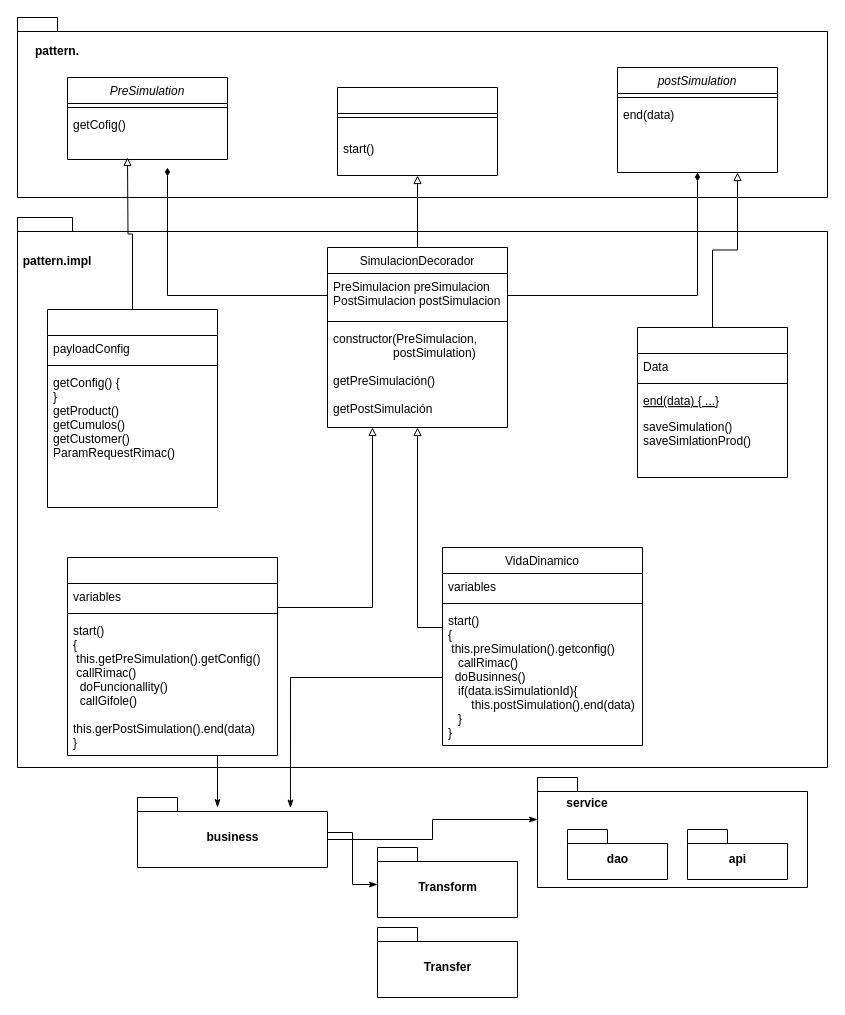
Image size: 845x1015. Some labels were removed from this diagram. Here are the shapes that lost their labels. From the top down, the box of each, then its label:
(336, 86, 498, 176): Simulacion
(46, 308, 218, 508): Parameter
(636, 326, 788, 478): Store
(66, 556, 278, 756): EasyYes
